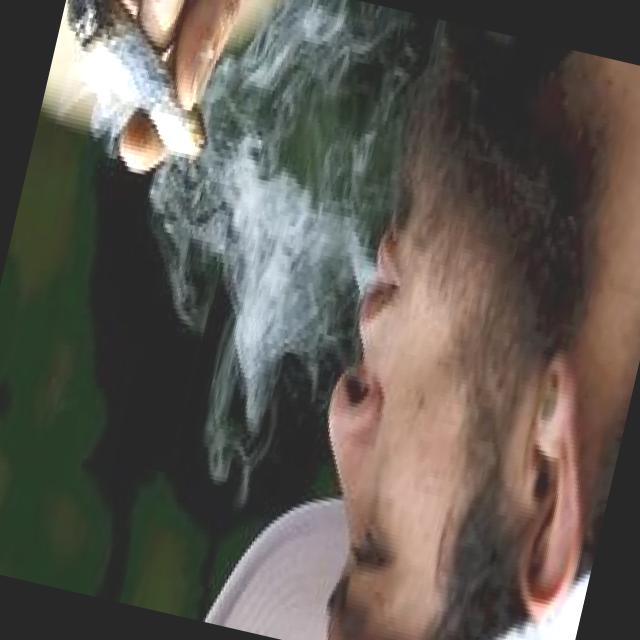cigarette: (38, 0, 242, 174)
